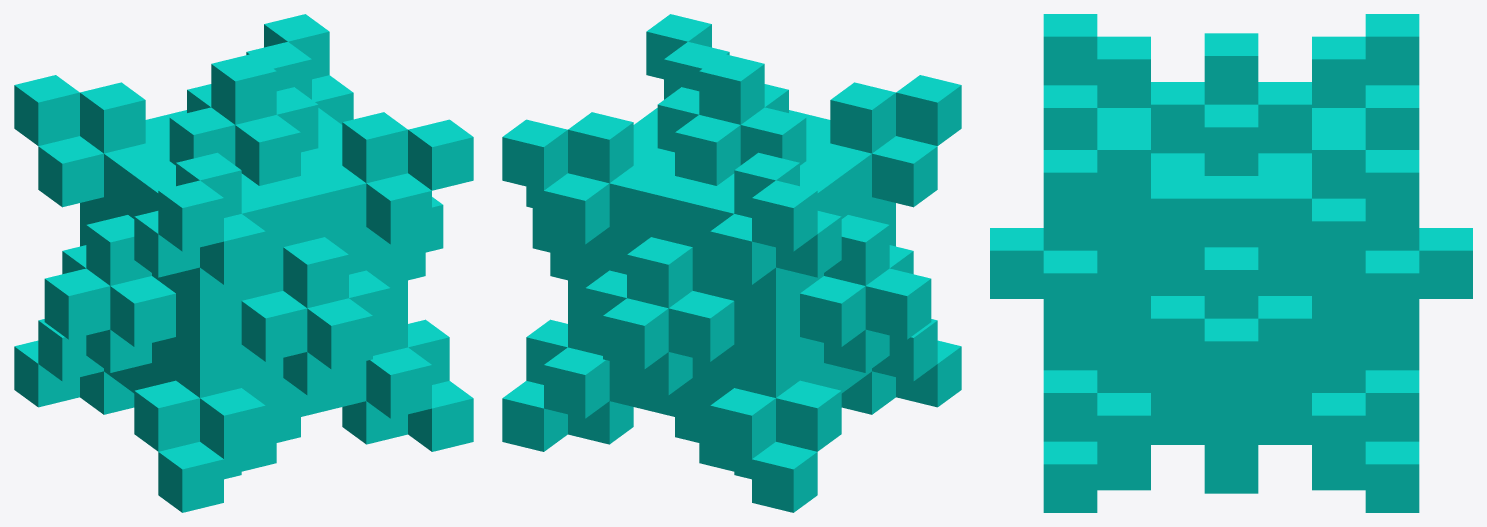
Rendered from starcandy.dae.
3 renders of one model, left to right at view 1: azimuth 30°, elevation 25°; view 2: azimuth 150°, elevation 25°; view 3: azimuth 270°, elevation 25°, orthographic. The views are drawn at different scales.
Visible parts, largest first — view 1: illusionpart; view 2: illusionpart; view 3: illusionpart.
Part boxes in pixels (x1,y1,x2,y2): illusionpart: [14, 14, 473, 512]; illusionpart: [502, 14, 961, 512]; illusionpart: [990, 14, 1472, 512].
Bounding box in the file's own units: 9 × 9 × 9.
1 material, 1 textured.
